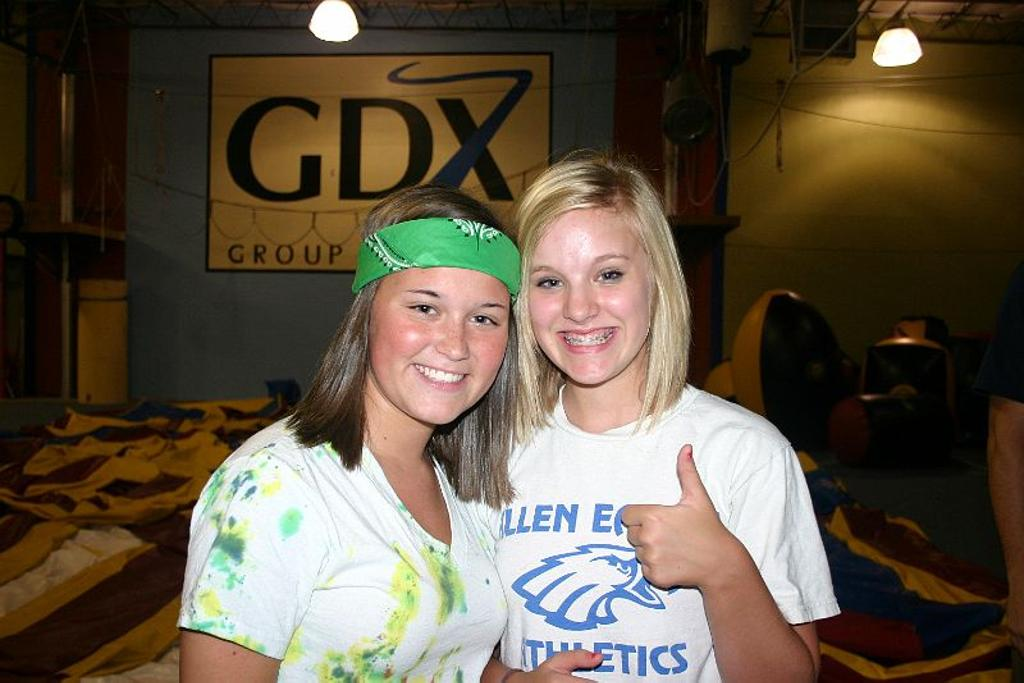face: (372, 232, 506, 424), (528, 204, 652, 380)
